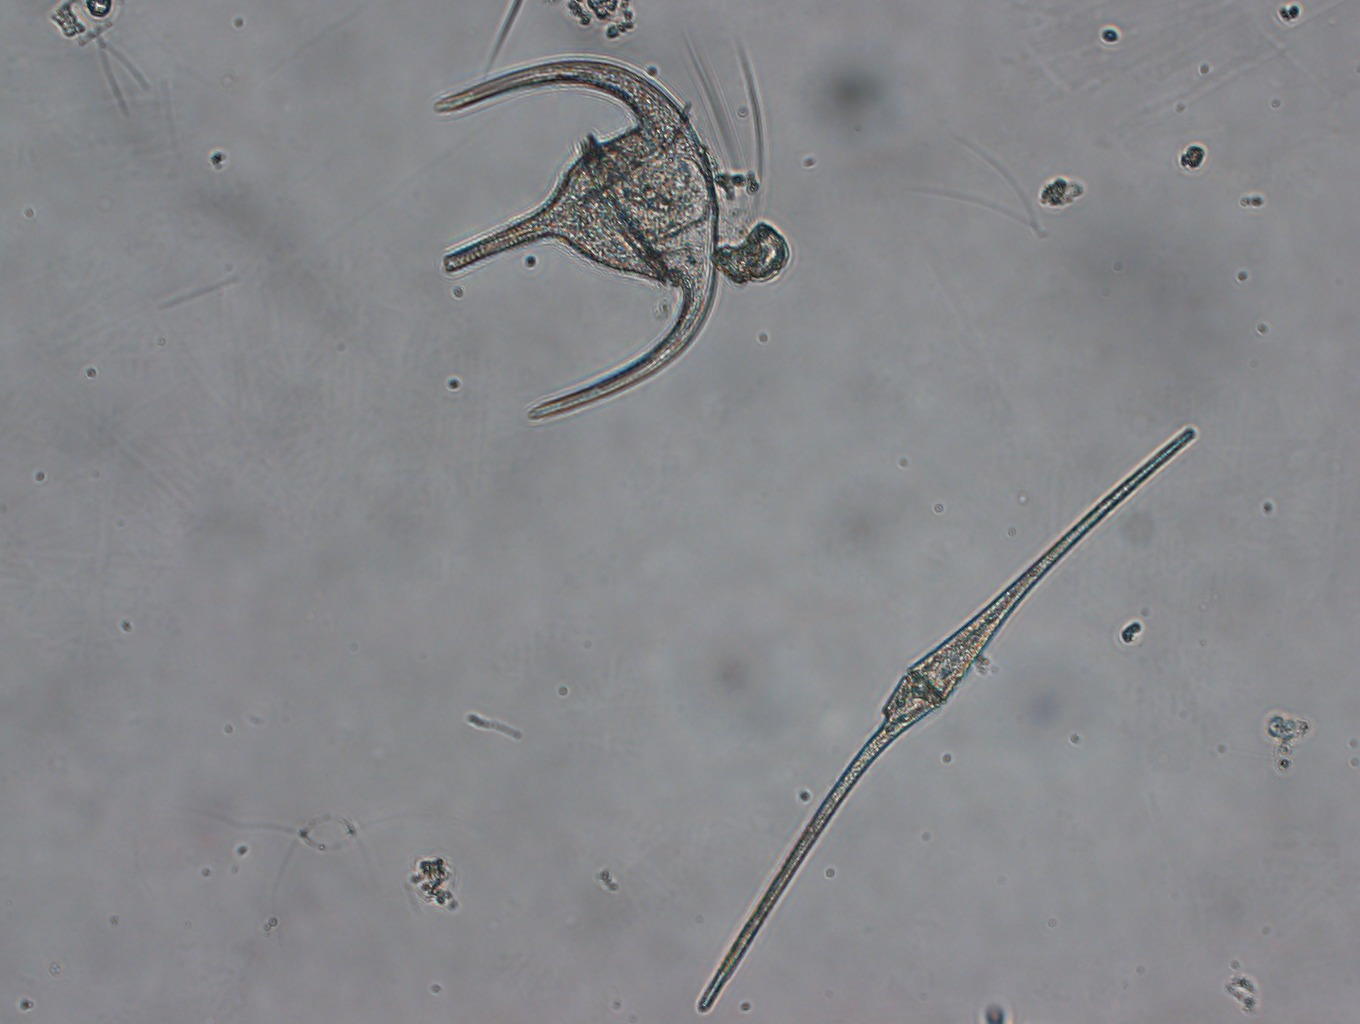ceratium fusus: (697, 419, 1200, 1016)
ceratium tripos: (430, 55, 720, 426)
chaetoceros: (47, 1, 147, 118)
